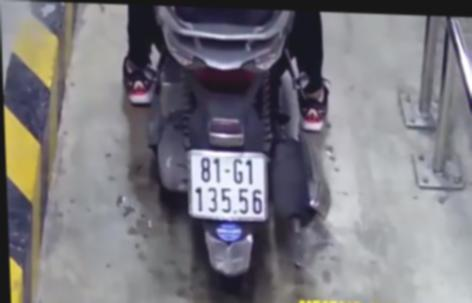License_Plate: (182, 146, 273, 228)
